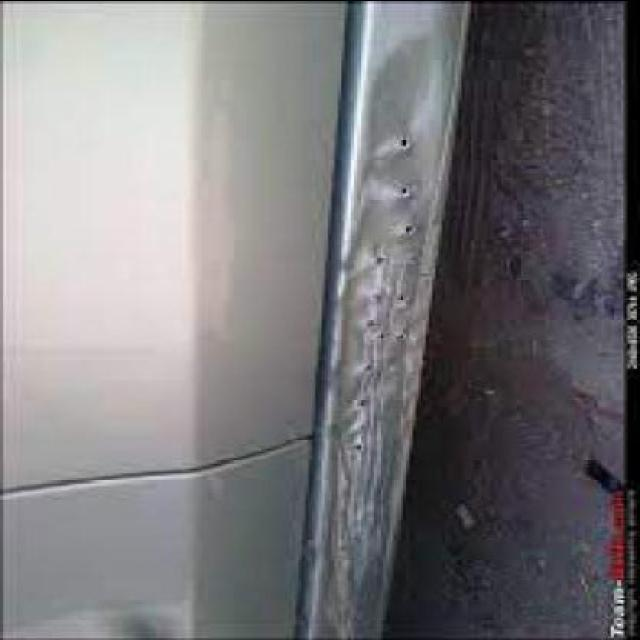RunningBoard-Dent: (305, 18, 458, 636)
